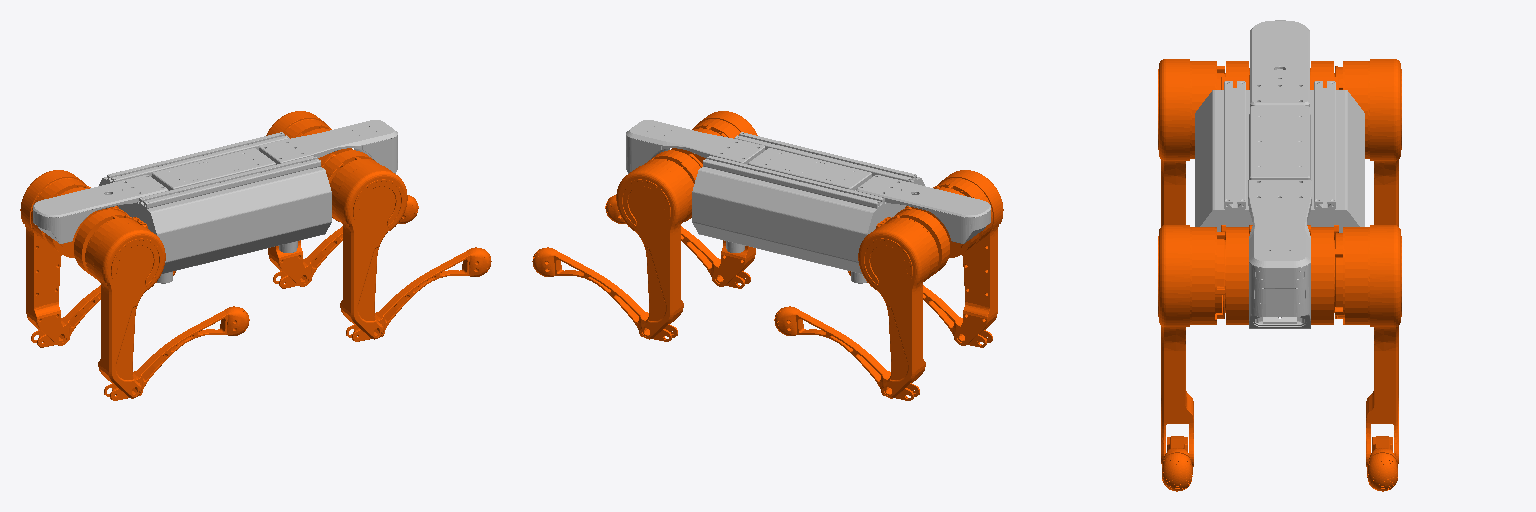
URDF robot description (dog200):
<?xml version="1.0" ?>
<!-- =================================================================================== -->
<!-- |    This document was autogenerated by xacro from robot.xacro                    | -->
<!-- |    EDITING THIS FILE BY HAND IS NOT RECOMMENDED                                 | -->
<!-- =================================================================================== -->
<robot name="dog200">
  <material name="black">
    <color rgba="0.0 0.0 0.0 1.0"/>
  </material>
  <material name="blue">
    <color rgba="0.0 0.0 0.8 1.0"/>
  </material>
  <material name="green">
    <color rgba="0.0 0.8 0.0 1.0"/>
  </material>
  <material name="grey">
    <color rgba="0.2 0.2 0.2 1.0"/>
  </material>
  <material name="silver">
    <color rgba="0.9137254901960784 0.9137254901960784 0.8470588235294118 1.0"/>
  </material>
  <material name="orange">
    <color rgba="1.0 0.4235294117647059 0.0392156862745098 1.0"/>
  </material>
  <material name="brown">
    <color rgba="0.8705882352941177 0.8117647058823529 0.7647058823529411 1.0"/>
  </material>
  <material name="red">
    <color rgba="0.8 0.0 0.0 1.0"/>
  </material>
  <material name="white">
    <color rgba="1.0 1.0 1.0 1.0"/>
  </material>
  <!-- ？？？-->
  <link name="trunk">
    <visual>
      <origin rpy="0 0 0" xyz="0 0 0"/>
      <geometry>
        <mesh filename="../meshes/trunk.dae" scale="1 1 1"/>
      </geometry>
    </visual>
    <collision>
      <origin rpy="0 0 0" xyz="0 0 0"/>
      <geometry>
        <box size="0.506 0.304 0.18"/>
      </geometry>
    </collision>
    <inertial>
      <origin rpy="0 0 0" xyz="-0.00127 -0.000312 -0.009056"/>
      <mass value="26.509671"/>
      <inertia ixx="0.238293" ixy="6.5e-05" ixz="0.005717" iyy="0.98538" iyz="-0.000315" izz="1.07499"/>
    </inertial>
  </link>
  <!-- Imu is fixed to the base link -->
  <joint name="imu_link_joint" type="fixed">
    <origin rpy="0. 0. 0." xyz="0. 0. 0."/>
    <parent link="trunk"/>
    <child link="imu_link"/>
  </joint>
  <!-- Imu link -->
  <link name="imu_link">
    <inertial>
      <mass value="0.01"/>
      <origin rpy="0 0 0" xyz="0 0 0"/>
      <inertia ixx="0.000001" ixy="0" ixz="0" iyy="0.000001" iyz="0" izz="0.000001"/>
    </inertial>
    <visual>
      <origin rpy="0 0 0" xyz="0 0 0"/>
      <geometry>
        <box size="0.015 0.015 0.004"/>
      </geometry>
    </visual>
    <material name="orange">
      <color rgba="1.0 0.423529411765 0.0392156862745 1.0"/>
    </material>
  </link>
  <joint name="FR_hip_joint" type="revolute">
    <origin rpy="0 0 0" xyz="0.35 -0.075 0"/>
    <parent link="trunk"/>
    <child link="FR_hip"/>
    <axis xyz="1 0 0"/>
    <dynamics damping="0" friction="0"/>
    <limit effort="160" lower="-0.5235987755982988" upper="0.5235987755982988" velocity="30"/>
  </joint>
  <link name="FR_hip">
    <visual>
      <origin rpy="3.141592653589793 0 0" xyz="0 0 0"/>
      <geometry>
        <mesh filename="../meshes/hip.dae" scale="1 1 1"/>
      </geometry>
      <material name="orange"/>
    </visual>
    <collision>
      <origin rpy="1.5707963267948966 0 0" xyz="0 0 0"/>
      <geometry>
        <cylinder length="0.055" radius="0.0875"/>
      </geometry>
    </collision>
    <inertial>
      <origin rpy="0 0 0" xyz="-0.011066 0.004319 3.3e-06"/>
      <mass value="2.6599"/>
      <inertia ixx="0.005441" ixy="-9.5e-05" ixz="-2e-06" iyy="0.011182" iyz="-2e-06" izz="0.007098"/>
    </inertial>
  </link>
  <joint name="FR_thigh_joint" type="revolute">
    <origin rpy="0 0 0" xyz="0 -0.10765 0"/>
    <parent link="FR_hip"/>
    <child link="FR_thigh"/>
    <axis xyz="0 -1 0"/>
    <dynamics damping="0" friction="0"/>
    <limit effort="200" lower="-1.9896753472735356" upper="0.4886921905584123" velocity="30"/>
  </joint>
  <link name="FR_thigh">
    <visual>
      <origin rpy="0 0 0" xyz="0 0 0"/>
      <geometry>
        <mesh filename="../meshes/thigh_mirror.dae" scale="1 1 1"/>
      </geometry>
      <material name="orange"/>
    </visual>
    <collision>
      <origin rpy="0 1.6707963267948966 0" xyz="-0.0 0 -0.175"/>
      <geometry>
        <box size="0.35 0.045 0.075"/>
      </geometry>
    </collision>
    <collision>
      <origin rpy="1.5707963267948966 0 0" xyz="0 0.0 0"/>
      <geometry>
        <cylinder length="0.055" radius="0.0875"/>
      </geometry>
    </collision>
    <inertial>
      <origin rpy="0 0 0" xyz="-0.007894 0.023943 -0.068076"/>
      <mass value="5.483708"/>
      <inertia ixx="0.100463" ixy="-0.001218" ixz="-0.00482" iyy="0.103304" iyz="-0.009831" izz="0.014712"/>
    </inertial>
  </link>
  <joint name="FR_calf_joint" type="revolute">
    <origin rpy="0 0 0" xyz="0 0 -0.35"/>
    <parent link="FR_thigh"/>
    <child link="FR_calf"/>
    <axis xyz="0 -1 0"/>
    <dynamics damping="0" friction="0"/>
    <limit effort="200" lower="1.0297442586766543" upper="2.722713633111154" velocity="30"/>
  </joint>
  <link name="FR_calf">
    <visual>
      <origin rpy="0 0 0" xyz="0 0 0"/>
      <geometry>
        <mesh filename="../meshes/calf.dae" scale="1 1 1"/>
      </geometry>
      <material name="orange"/>
    </visual>
    <collision>
      <origin rpy="0 1.5707963267948966 0" xyz="0.0 0 -0.164"/>
      <geometry>
        <box size="0.328 0.022 0.035"/>
      </geometry>
    </collision>
    <inertial>
      <origin rpy="0 0 0" xyz="0.017847 -7.7e-05 -0.147842"/>
      <mass value="0.623768"/>
      <inertia ixx="0.011073" ixy="0.0" ixz="0.000687" iyy="0.011294" iyz="1e-05" izz="0.000355"/>
    </inertial>
  </link>
  <joint name="FR_foot_fixed" type="fixed" dont_collapse="true">
    <origin rpy="0 0 0" xyz="0 0 -0.328"/>
    <parent link="FR_calf"/>
    <child link="FR_foot"/>
  </joint>
  <link name="FR_foot">
    <visual>
      <origin rpy="0 0 0" xyz="0 0 0"/>
      <geometry>
        <sphere radius="0.019999999999999997"/>
      </geometry>
      <material name="orange"/>
    </visual>
    <collision>
      <origin rpy="0 0 0" xyz="0 0 0"/>
      <geometry>
        <sphere radius="0.03"/>
      </geometry>
    </collision>
    <inertial>
      <mass value="0.02"/>
      <inertia ixx="7.2e-06" ixy="0.0" ixz="0.0" iyy="7.2e-06" iyz="0.0" izz="7.2e-06"/>
    </inertial>
  </link>
  <joint name="FL_hip_joint" type="revolute">
    <origin rpy="0 0 0" xyz="0.35 0.075 0"/>
    <parent link="trunk"/>
    <child link="FL_hip"/>
    <axis xyz="1 0 0"/>
    <dynamics damping="0" friction="0"/>
    <limit effort="160" lower="-0.5235987755982988" upper="0.5235987755982988" velocity="30"/>
  </joint>
  <link name="FL_hip">
    <visual>
      <origin rpy="0 0 0" xyz="0 0 0"/>
      <geometry>
        <mesh filename="../meshes/hip.dae" scale="1 1 1"/>
      </geometry>
      <material name="orange"/>
    </visual>
    <collision>
      <origin rpy="1.5707963267948966 0 0" xyz="0 0 0"/>
      <geometry>
        <cylinder length="0.055" radius="0.0875"/>
      </geometry>
    </collision>
    <inertial>
      <origin rpy="0 0 0" xyz="-0.011066 -0.004319 3.3e-06"/>
      <mass value="2.6599"/>
      <inertia ixx="0.005441" ixy="9.5e-05" ixz="-2e-06" iyy="0.011182" iyz="2e-06" izz="0.007098"/>
    </inertial>
  </link>
  <joint name="FL_thigh_joint" type="revolute">
    <origin rpy="0 0 0" xyz="0 0.10765 0"/>
    <parent link="FL_hip"/>
    <child link="FL_thigh"/>
    <axis xyz="0 -1 0"/>
    <dynamics damping="0" friction="0"/>
    <limit effort="200" lower="-1.9896753472735356" upper="0.4886921905584123" velocity="30"/>
  </joint>
  <link name="FL_thigh">
    <visual>
      <origin rpy="0 0 0" xyz="0 0 0"/>
      <geometry>
        <mesh filename="../meshes/thigh.dae" scale="1 1 1"/>
      </geometry>
      <material name="orange"/>
    </visual>
    <collision>
      <origin rpy="0 1.6707963267948966 0" xyz="-0.0 0 -0.175"/>
      <geometry>
        <box size="0.35 0.045 0.075"/>
      </geometry>
    </collision>
    <collision>
      <origin rpy="1.5707963267948966 0 0" xyz="0 -0.0 0"/>
      <geometry>
        <cylinder length="0.055" radius="0.0875"/>
      </geometry>
    </collision>
    <inertial>
      <origin rpy="0 0 0" xyz="-0.007894 -0.023943 -0.068076"/>
      <mass value="5.483708"/>
      <inertia ixx="0.100463" ixy="0.001218" ixz="-0.00482" iyy="0.103304" iyz="0.009831" izz="0.014712"/>
    </inertial>
  </link>
  <joint name="FL_calf_joint" type="revolute">
    <origin rpy="0 0 0" xyz="0 0 -0.35"/>
    <parent link="FL_thigh"/>
    <child link="FL_calf"/>
    <axis xyz="0 -1 0"/>
    <dynamics damping="0" friction="0"/>
    <limit effort="200" lower="1.0297442586766543" upper="2.722713633111154" velocity="30"/>
  </joint>
  <link name="FL_calf">
    <visual>
      <origin rpy="0 0 0" xyz="0 0 0"/>
      <geometry>
        <mesh filename="../meshes/calf.dae" scale="1 1 1"/>
      </geometry>
      <material name="orange"/>
    </visual>
    <collision>
      <origin rpy="0 1.5707963267948966 0" xyz="0.0 0 -0.164"/>
      <geometry>
        <box size="0.328 0.022 0.035"/>
      </geometry>
    </collision>
    <inertial>
      <origin rpy="0 0 0" xyz="0.017847 -7.7e-05 -0.147842"/>
      <mass value="0.623768"/>
      <inertia ixx="0.011073" ixy="0.0" ixz="0.000687" iyy="0.011294" iyz="1e-05" izz="0.000355"/>
    </inertial>
  </link>
  <joint name="FL_foot_fixed" type="fixed" dont_collapse="true">
    <origin rpy="0 0 0" xyz="0 0 -0.328"/>
    <parent link="FL_calf"/>
    <child link="FL_foot"/>
  </joint>
  <link name="FL_foot">
    <visual>
      <origin rpy="0 0 0" xyz="0 0 0"/>
      <geometry>
        <sphere radius="0.019999999999999997"/>
      </geometry>
      <material name="orange"/>
    </visual>
    <collision>
      <origin rpy="0 0 0" xyz="0 0 0"/>
      <geometry>
        <sphere radius="0.03"/>
      </geometry>
    </collision>
    <inertial>
      <mass value="0.02"/>
      <inertia ixx="7.2e-06" ixy="0.0" ixz="0.0" iyy="7.2e-06" iyz="0.0" izz="7.2e-06"/>
    </inertial>
  </link>
  <joint name="RR_hip_joint" type="revolute">
    <origin rpy="0 0 0" xyz="-0.35 -0.075 0"/>
    <parent link="trunk"/>
    <child link="RR_hip"/>
    <axis xyz="1 0 0"/>
    <dynamics damping="0" friction="0"/>
    <limit effort="160" lower="-0.5235987755982988" upper="0.5235987755982988" velocity="30"/>
  </joint>
  <link name="RR_hip">
    <visual>
      <origin rpy="3.141592653589793 3.141592653589793 0" xyz="0 0 0"/>
      <geometry>
        <mesh filename="../meshes/hip.dae" scale="1 1 1"/>
      </geometry>
      <material name="orange"/>
    </visual>
    <collision>
      <origin rpy="1.5707963267948966 0 0" xyz="0 0 0"/>
      <geometry>
        <cylinder length="0.055" radius="0.0875"/>
      </geometry>
    </collision>
    <inertial>
      <origin rpy="0 0 0" xyz="0.011066 0.004319 3.3e-06"/>
      <mass value="2.6599"/>
      <inertia ixx="0.005441" ixy="9.5e-05" ixz="2e-06" iyy="0.011182" iyz="-2e-06" izz="0.007098"/>
    </inertial>
  </link>
  <joint name="RR_thigh_joint" type="revolute">
    <origin rpy="0 0 0" xyz="0 -0.10765 0"/>
    <parent link="RR_hip"/>
    <child link="RR_thigh"/>
    <axis xyz="0 -1 0"/>
    <dynamics damping="0" friction="0"/>
    <limit effort="200" lower="-1.9896753472735356" upper="0.4886921905584123" velocity="30"/>
  </joint>
  <link name="RR_thigh">
    <visual>
      <origin rpy="0 0 0" xyz="0 0 0"/>
      <geometry>
        <mesh filename="../meshes/thigh_mirror.dae" scale="1 1 1"/>
      </geometry>
      <material name="orange"/>
    </visual>
    <collision>
      <origin rpy="0 1.6707963267948966 0" xyz="-0.0 0 -0.175"/>
      <geometry>
        <box size="0.35 0.045 0.075"/>
      </geometry>
    </collision>
    <collision>
      <origin rpy="1.5707963267948966 0 0" xyz="0 0.0 0"/>
      <geometry>
        <cylinder length="0.055" radius="0.0875"/>
      </geometry>
    </collision>
    <inertial>
      <origin rpy="0 0 0" xyz="-0.007894 0.023943 -0.068076"/>
      <mass value="5.483708"/>
      <inertia ixx="0.100463" ixy="-0.001218" ixz="-0.00482" iyy="0.103304" iyz="-0.009831" izz="0.014712"/>
    </inertial>
  </link>
  <joint name="RR_calf_joint" type="revolute">
    <origin rpy="0 0 0" xyz="0 0 -0.35"/>
    <parent link="RR_thigh"/>
    <child link="RR_calf"/>
    <axis xyz="0 -1 0"/>
    <dynamics damping="0" friction="0"/>
    <limit effort="200" lower="1.0297442586766543" upper="2.722713633111154" velocity="30"/>
  </joint>
  <link name="RR_calf">
    <visual>
      <origin rpy="0 0 0" xyz="0 0 0"/>
      <geometry>
        <mesh filename="../meshes/calf.dae" scale="1 1 1"/>
      </geometry>
      <material name="orange"/>
    </visual>
    <collision>
      <origin rpy="0 1.5707963267948966 0" xyz="0.0 0 -0.164"/>
      <geometry>
        <box size="0.328 0.022 0.035"/>
      </geometry>
    </collision>
    <inertial>
      <origin rpy="0 0 0" xyz="0.017847 -7.7e-05 -0.147842"/>
      <mass value="0.623768"/>
      <inertia ixx="0.011073" ixy="0.0" ixz="0.000687" iyy="0.011294" iyz="1e-05" izz="0.000355"/>
    </inertial>
  </link>
  <joint name="RR_foot_fixed" type="fixed" dont_collapse="true">
    <origin rpy="0 0 0" xyz="0 0 -0.328"/>
    <parent link="RR_calf"/>
    <child link="RR_foot"/>
  </joint>
  <link name="RR_foot">
    <visual>
      <origin rpy="0 0 0" xyz="0 0 0"/>
      <geometry>
        <sphere radius="0.019999999999999997"/>
      </geometry>
      <material name="orange"/>
    </visual>
    <collision>
      <origin rpy="0 0 0" xyz="0 0 0"/>
      <geometry>
        <sphere radius="0.03"/>
      </geometry>
    </collision>
    <inertial>
      <mass value="0.02"/>
      <inertia ixx="7.2e-06" ixy="0.0" ixz="0.0" iyy="7.2e-06" iyz="0.0" izz="7.2e-06"/>
    </inertial>
  </link>
  <joint name="RL_hip_joint" type="revolute">
    <origin rpy="0 0 0" xyz="-0.35 0.075 0"/>
    <parent link="trunk"/>
    <child link="RL_hip"/>
    <axis xyz="1 0 0"/>
    <dynamics damping="0" friction="0"/>
    <limit effort="160" lower="-0.5235987755982988" upper="0.5235987755982988" velocity="30"/>
  </joint>
  <link name="RL_hip">
    <visual>
      <origin rpy="0 3.141592653589793 0" xyz="0 0 0"/>
      <geometry>
        <mesh filename="../meshes/hip.dae" scale="1 1 1"/>
      </geometry>
      <material name="orange"/>
    </visual>
    <collision>
      <origin rpy="1.5707963267948966 0 0" xyz="0 0 0"/>
      <geometry>
        <cylinder length="0.055" radius="0.0875"/>
      </geometry>
    </collision>
    <inertial>
      <origin rpy="0 0 0" xyz="0.011066 -0.004319 3.3e-06"/>
      <mass value="2.6599"/>
      <inertia ixx="0.005441" ixy="-9.5e-05" ixz="2e-06" iyy="0.011182" iyz="2e-06" izz="0.007098"/>
    </inertial>
  </link>
  <joint name="RL_thigh_joint" type="revolute">
    <origin rpy="0 0 0" xyz="0 0.10765 0"/>
    <parent link="RL_hip"/>
    <child link="RL_thigh"/>
    <axis xyz="0 -1 0"/>
    <dynamics damping="0" friction="0"/>
    <limit effort="200" lower="-1.9896753472735356" upper="0.4886921905584123" velocity="30"/>
  </joint>
  <link name="RL_thigh">
    <visual>
      <origin rpy="0 0 0" xyz="0 0 0"/>
      <geometry>
        <mesh filename="../meshes/thigh.dae" scale="1 1 1"/>
      </geometry>
      <material name="orange"/>
    </visual>
    <collision>
      <origin rpy="0 1.6707963267948966 0" xyz="-0.0 0 -0.175"/>
      <geometry>
        <box size="0.35 0.045 0.075"/>
      </geometry>
    </collision>
    <collision>
      <origin rpy="1.5707963267948966 0 0" xyz="0 -0.0 0"/>
      <geometry>
        <cylinder length="0.055" radius="0.0875"/>
      </geometry>
    </collision>
    <inertial>
      <origin rpy="0 0 0" xyz="-0.007894 -0.023943 -0.068076"/>
      <mass value="5.483708"/>
      <inertia ixx="0.100463" ixy="0.001218" ixz="-0.00482" iyy="0.103304" iyz="0.009831" izz="0.014712"/>
    </inertial>
  </link>
  <joint name="RL_calf_joint" type="revolute">
    <origin rpy="0 0 0" xyz="0 0 -0.35"/>
    <parent link="RL_thigh"/>
    <child link="RL_calf"/>
    <axis xyz="0 -1 0"/>
    <dynamics damping="0" friction="0"/>
    <limit effort="200" lower="1.0297442586766543" upper="2.722713633111154" velocity="30"/>
  </joint>
  <link name="RL_calf">
    <visual>
      <origin rpy="0 0 0" xyz="0 0 0"/>
      <geometry>
        <mesh filename="../meshes/calf.dae" scale="1 1 1"/>
      </geometry>
      <material name="orange"/>
    </visual>
    <collision>
      <origin rpy="0 1.5707963267948966 0" xyz="0.0 0 -0.164"/>
      <geometry>
        <box size="0.328 0.022 0.035"/>
      </geometry>
    </collision>
    <inertial>
      <origin rpy="0 0 0" xyz="0.017847 -7.7e-05 -0.147842"/>
      <mass value="0.623768"/>
      <inertia ixx="0.011073" ixy="0.0" ixz="0.000687" iyy="0.011294" iyz="1e-05" izz="0.000355"/>
    </inertial>
  </link>
  <joint name="RL_foot_fixed" type="fixed" dont_collapse="true">
    <origin rpy="0 0 0" xyz="0 0 -0.328"/>
    <parent link="RL_calf"/>
    <child link="RL_foot"/>
  </joint>
  <link name="RL_foot">
    <visual>
      <origin rpy="0 0 0" xyz="0 0 0"/>
      <geometry>
        <sphere radius="0.019999999999999997"/>
      </geometry>
      <material name="orange"/>
    </visual>
    <collision>
      <origin rpy="0 0 0" xyz="0 0 0"/>
      <geometry>
        <sphere radius="0.03"/>
      </geometry>
    </collision>
    <inertial>
      <mass value="0.02"/>
      <inertia ixx="7.2e-06" ixy="0.0" ixz="0.0" iyy="7.2e-06" iyz="0.0" izz="7.2e-06"/>
    </inertial>
  </link>
</robot>

--- Facts derived from the render (not from the file) ---
The picture shows the robot from 3 angles, left to right: view 1: azimuth 30°, elevation 25°; view 2: azimuth 150°, elevation 25°; view 3: azimuth 270°, elevation 25°; orthographic projection.
Robot: dog200 — 18 links, 17 joints (12 revolute, 5 fixed); root link trunk; default pose: all joints at 0 but 4 set to mid-range because 0 is outside their limits (FR_calf_joint = 1.88, FL_calf_joint = 1.88, RR_calf_joint = 1.88, RL_calf_joint = 1.88).
Visible links, largest first — view 1: trunk, RR_thigh, FR_thigh, RL_thigh, FR_calf, RR_calf, FL_thigh, FL_calf, RR_hip, RL_calf, FR_hip; view 2: trunk, RL_thigh, FL_thigh, RR_thigh, FL_calf, RL_calf, FR_thigh, FR_calf, RL_hip, RR_calf, FL_hip; view 3: trunk, FR_thigh, FL_thigh, RR_thigh, RL_thigh, FL_hip, FR_hip, FL_calf, FR_calf, RR_hip, RL_hip.
Boxes of the visible links, <box> form: trunk: <box>33,120,397,283</box>; RR_thigh: <box>85,216,165,398</box>; FR_thigh: <box>330,157,407,339</box>; RL_thigh: <box>20,170,86,345</box>; FR_calf: <box>346,247,491,341</box>; RR_calf: <box>104,306,249,400</box>; FL_thigh: <box>266,111,331,286</box>; FL_calf: <box>273,195,418,288</box>; RR_hip: <box>74,207,147,275</box>; RL_calf: <box>31,271,175,347</box>; FR_hip: <box>321,150,374,221</box>; trunk: <box>626,120,990,283</box>; RL_thigh: <box>858,218,938,398</box>; FL_thigh: <box>616,158,693,339</box>; RR_thigh: <box>937,170,1003,345</box>; FL_calf: <box>532,247,677,341</box>; RL_calf: <box>774,306,919,400</box>; FR_thigh: <box>692,111,757,286</box>; FR_calf: <box>605,195,750,288</box>; RL_hip: <box>876,207,949,275</box>; RR_calf: <box>848,271,992,347</box>; FL_hip: <box>652,150,702,221</box>; trunk: <box>1195,20,1364,328</box>; FR_thigh: <box>1158,225,1224,466</box>; FL_thigh: <box>1335,225,1401,466</box>; RR_thigh: <box>1158,59,1224,226</box>; RL_thigh: <box>1335,59,1401,226</box>; FL_hip: <box>1307,225,1338,324</box>; FR_hip: <box>1221,225,1252,324</box>; FL_calf: <box>1367,436,1397,491</box>; FR_calf: <box>1162,436,1192,491</box>; RR_hip: <box>1221,61,1249,89</box>; RL_hip: <box>1310,61,1338,89</box>.
Size in the robot's own frame: 1.21 by 0.4345 by 0.4739 metres.
13 mesh visuals loaded from 5 distinct referenced files (5 Collada DAE).
